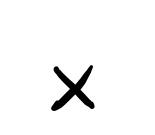mult: (51, 65, 96, 111)
